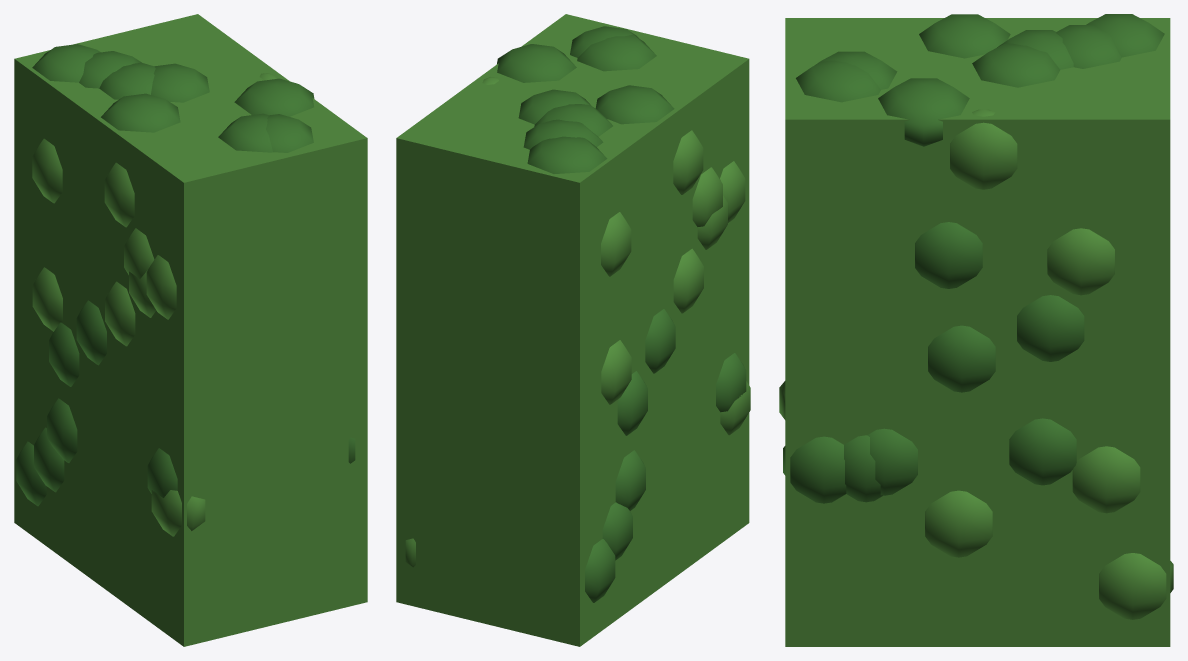
File: hedge_large.glb
3 views of the same model, side by side, from view 1: azimuth 30°, elevation 25°; view 2: azimuth 150°, elevation 25°; view 3: azimuth 270°, elevation 25° (orthographic). The views are drawn at different scales.
Visible parts, largest first — view 1: hedge; view 2: hedge; view 3: hedge.
Boxes of the visible parts, x1,y1,x2,y2 form: hedge: (14,14,367,646); hedge: (396,14,750,646); hedge: (779,14,1173,646).
Size of the model in its own units: 0.6646 by 1.5 by 0.9829.
